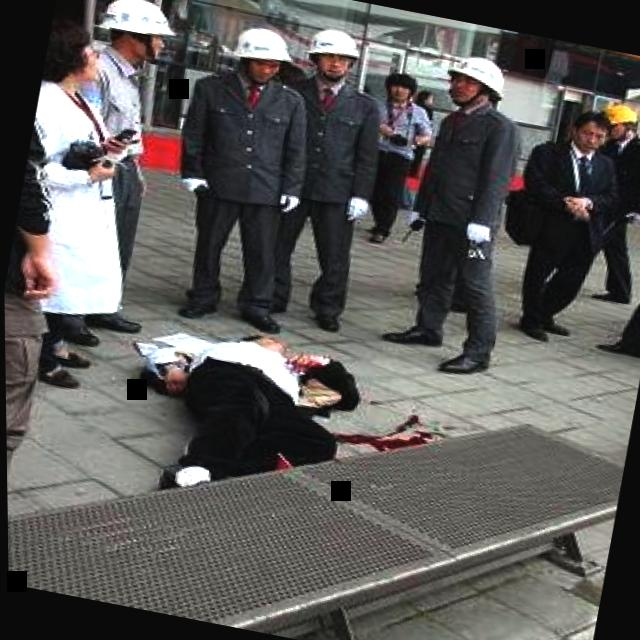Fall-Detected: (107, 288, 384, 530)
